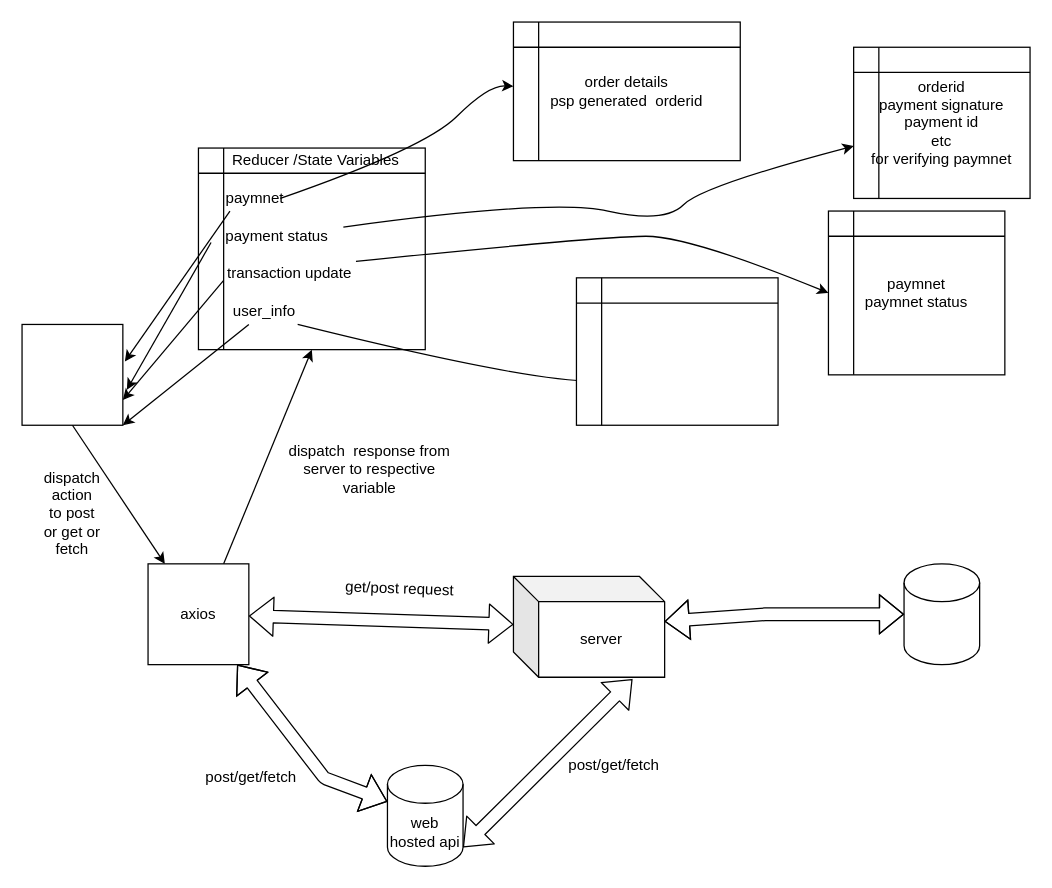
This 1052x888 diagram has some shape labels left out. Each missing label, with the centre of its shape:
"client page" belongs at (x=72, y=374).
"database" belongs at (x=941, y=614).
"username passowrd transid{ due,reciept} checkin,checkout, various details" belongs at (x=676, y=351).
